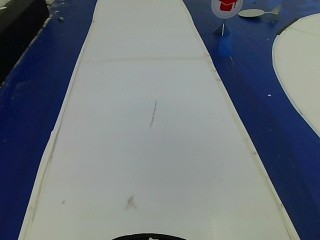school: (207, 0, 242, 20)
